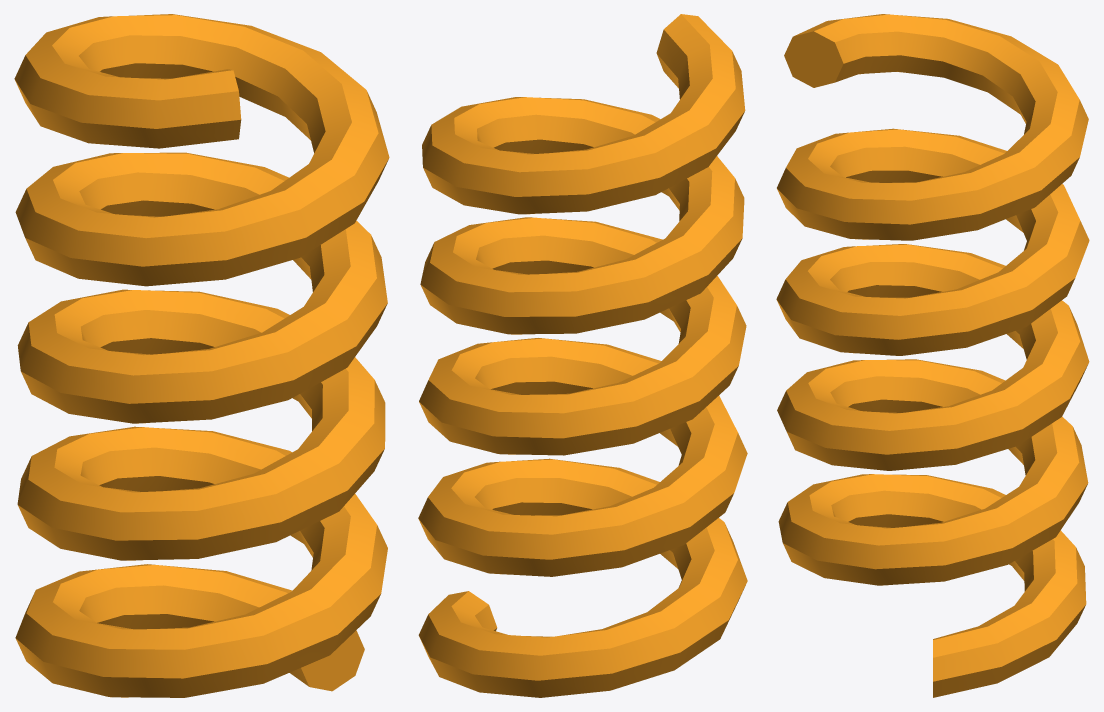
The model's file is SM_Primitive_Helix_01.fbx.
3 views of the same model, side by side, from view 1: azimuth 30°, elevation 25°; view 2: azimuth 150°, elevation 25°; view 3: azimuth 270°, elevation 25° (orthographic). The views are drawn at different scales.
Parts seen in each view (by area): view 1: SM_Primitive_Helix_01; view 2: SM_Primitive_Helix_01; view 3: SM_Primitive_Helix_01.
Boxes of the visible parts, x1,y1,x2,y2 form: SM_Primitive_Helix_01: [14, 14, 389, 697]; SM_Primitive_Helix_01: [418, 14, 747, 697]; SM_Primitive_Helix_01: [776, 14, 1089, 697].
Bounding box in the file's own units: 99.96 × 210 × 99.98.
